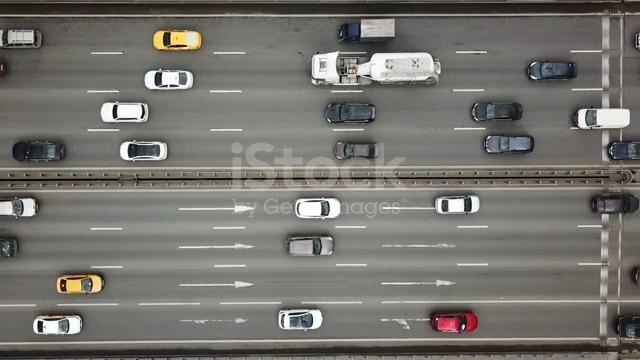Cars: (357, 52, 442, 86), (311, 51, 369, 87), (573, 108, 631, 130), (325, 102, 376, 125), (144, 69, 194, 91), (33, 314, 83, 336), (153, 29, 202, 51), (286, 235, 335, 257), (101, 102, 149, 124), (430, 312, 478, 334), (120, 140, 168, 162), (471, 102, 523, 122), (484, 134, 535, 154), (295, 198, 341, 220), (57, 274, 105, 295), (527, 61, 577, 81), (278, 309, 323, 331), (435, 195, 480, 215), (334, 141, 380, 160), (1, 29, 42, 49), (608, 141, 640, 161)
